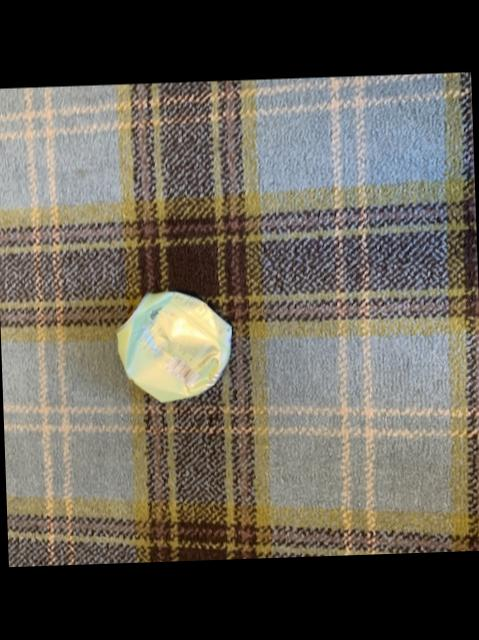metal: (117, 293, 231, 403)
